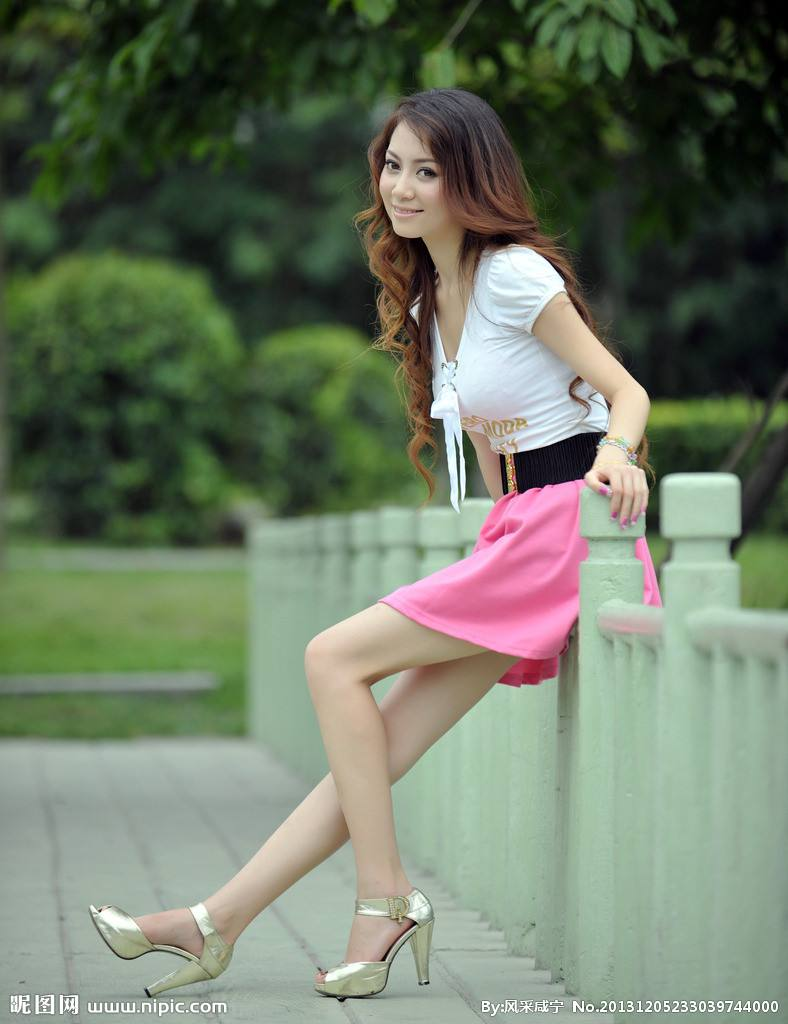person: (317, 75, 676, 913)
